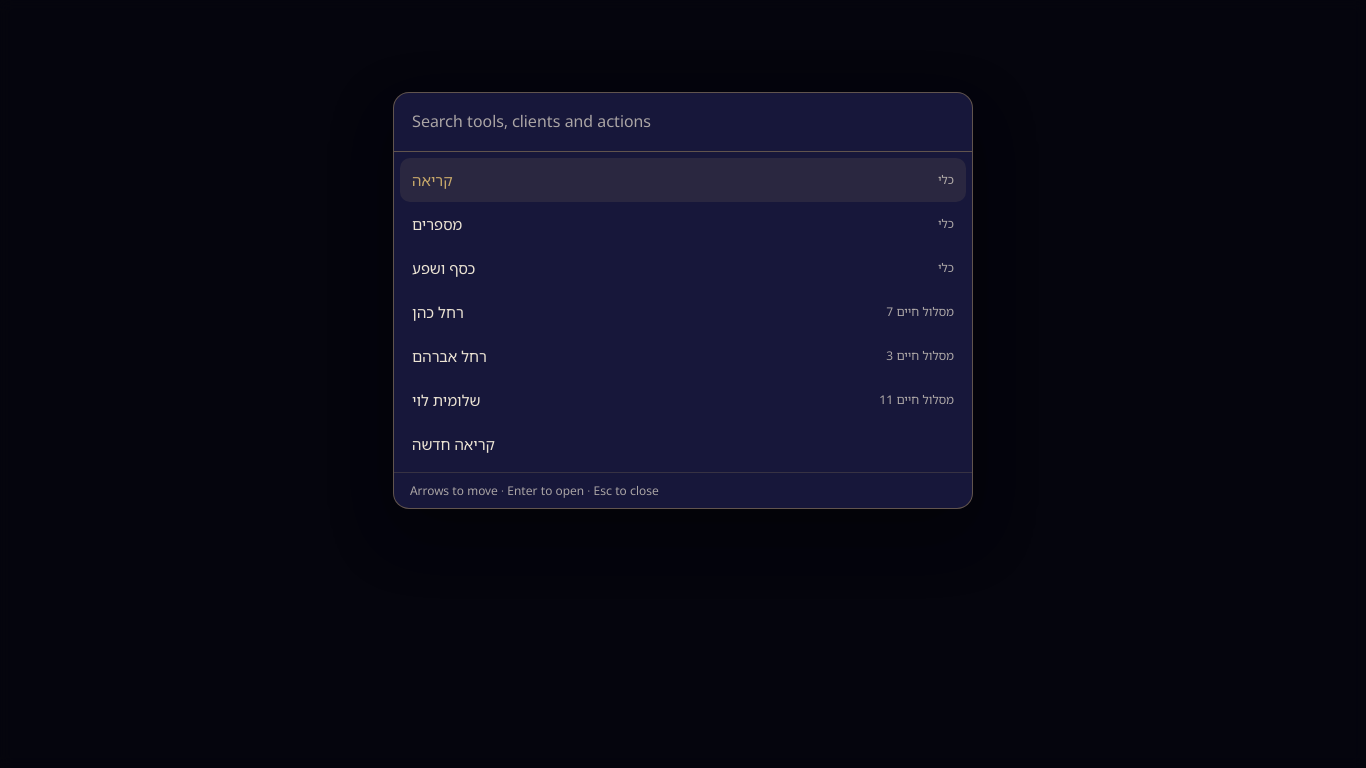
it: CommandPalette › speaks English when he is false
This screenshot has width=1366, height=768.
Expected: the text "Arrows to move · Enter to open · Esc to close" is shown, 394,472 -> 972,508
Type "zzz" into the dropdown. click: (683, 122)
box: 394,93 -> 972,152
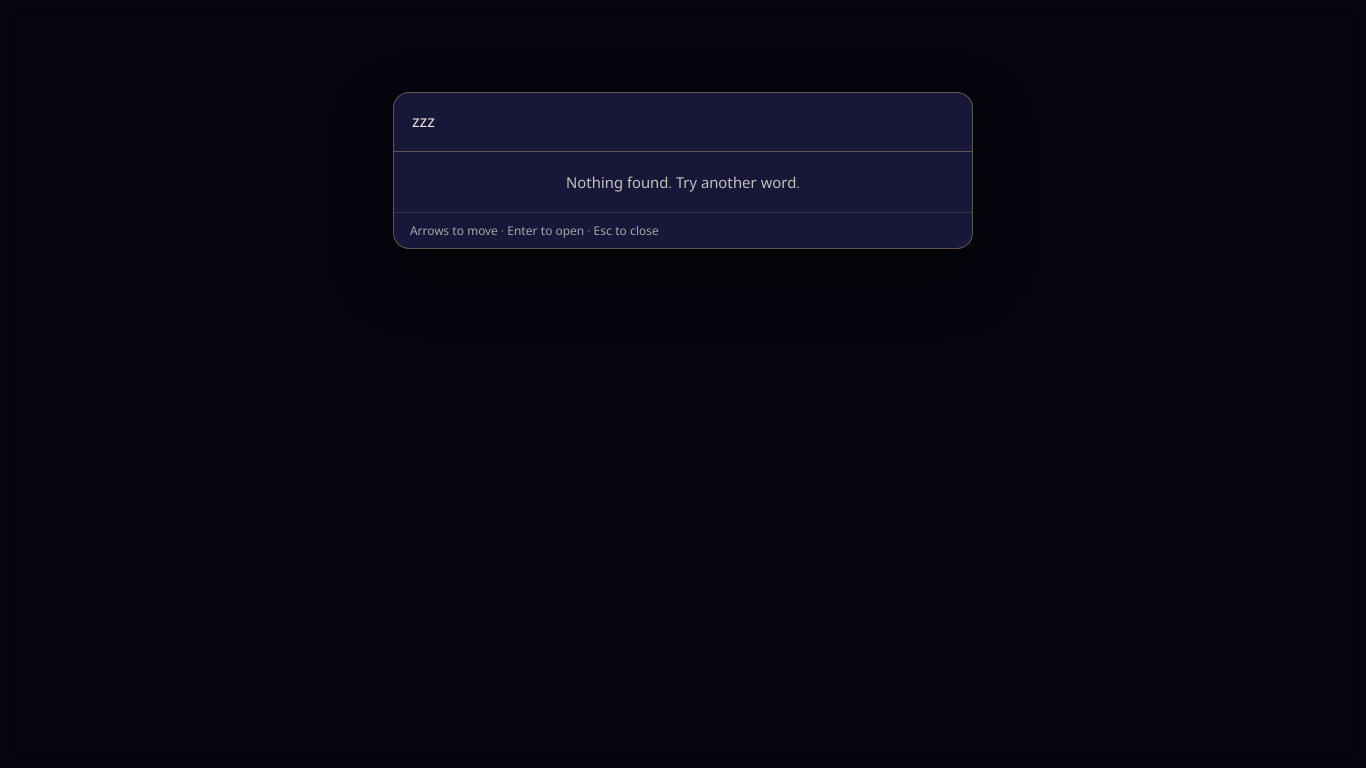
Expected: the message reads "Nothing found. Try another word.", 566,172 -> 800,192
